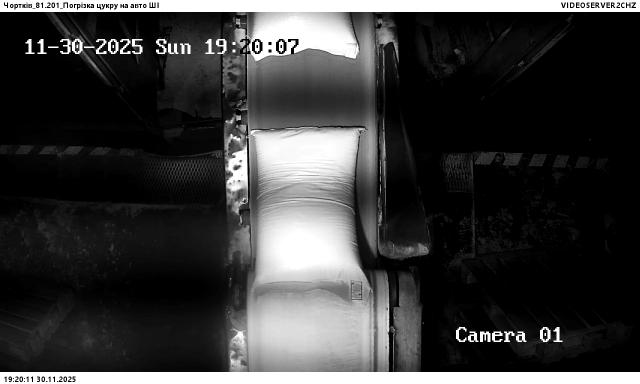bag: (251, 129, 374, 307), (253, 12, 361, 61)
